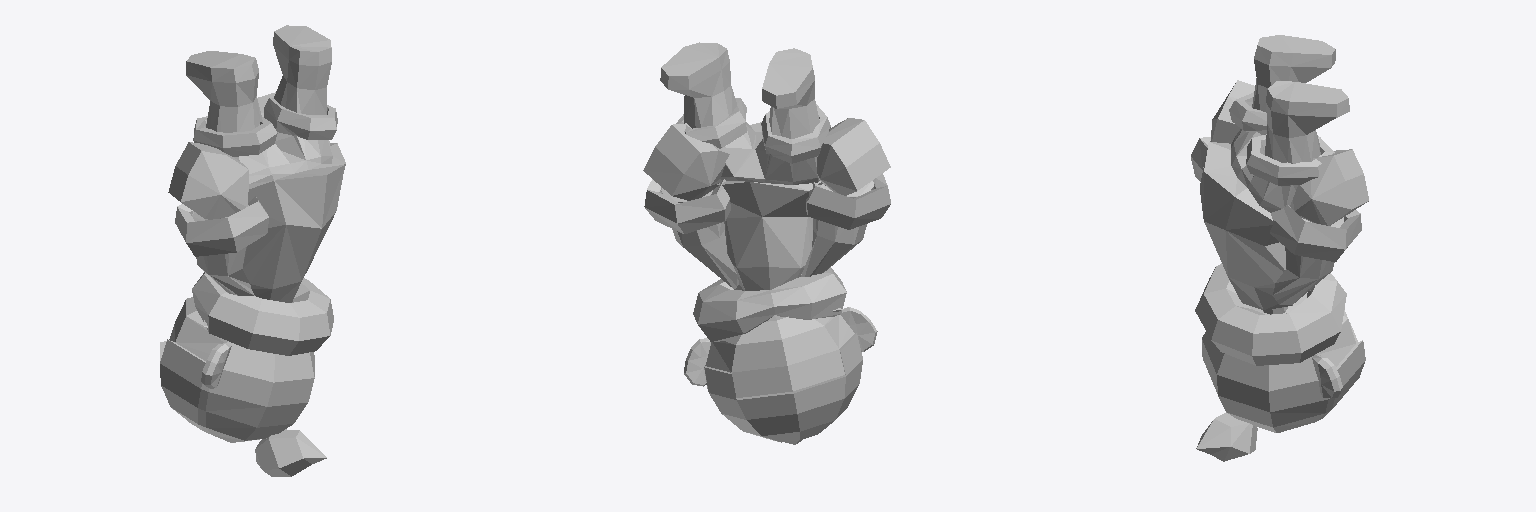
Rendered from eikadebil_000051.obj.
The picture shows the model from 3 angles: view 1: azimuth 30°, elevation 25°; view 2: azimuth 150°, elevation 25°; view 3: azimuth 270°, elevation 25°; orthographic projection.
Visible parts, largest first — view 1: Cylinder; view 2: Cylinder; view 3: Cylinder.
Boxes of the visible parts, <box> form: Cylinder: <box>160,25,345,476</box>; Cylinder: <box>643,42,890,444</box>; Cylinder: <box>1191,35,1368,461</box>.
Bounding box in the file's own units: 28.22 × 55.27 × 22.06.